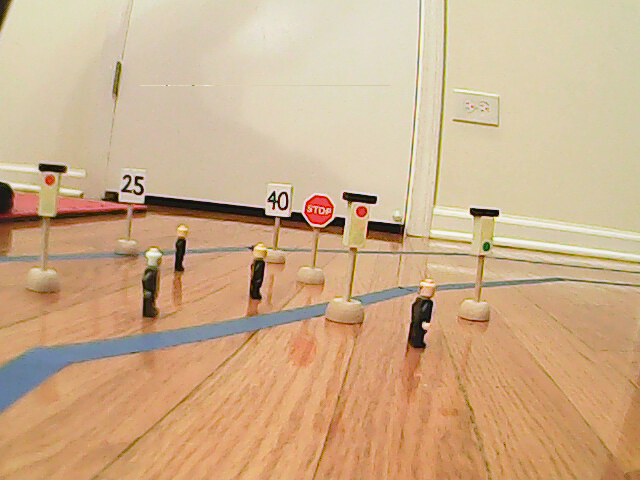Green Traffic Light: (468, 205, 497, 259)
Person: (406, 278, 437, 351), (139, 249, 164, 317), (245, 242, 270, 301), (172, 224, 192, 275)
Red Traffic Light: (343, 193, 374, 249), (38, 161, 62, 218)
Speed Limit 25: (117, 168, 148, 204)
Speed Limit 40: (264, 184, 295, 218)
Stop Sign: (301, 191, 336, 229)
